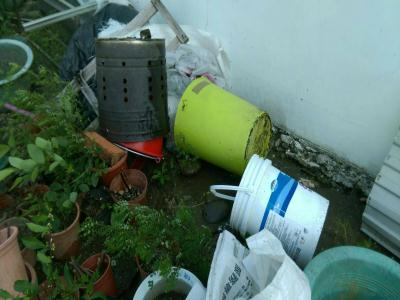bucket: (227, 152, 333, 269), (172, 74, 273, 178), (92, 38, 167, 145)
plastic_bag: (204, 224, 313, 299)
